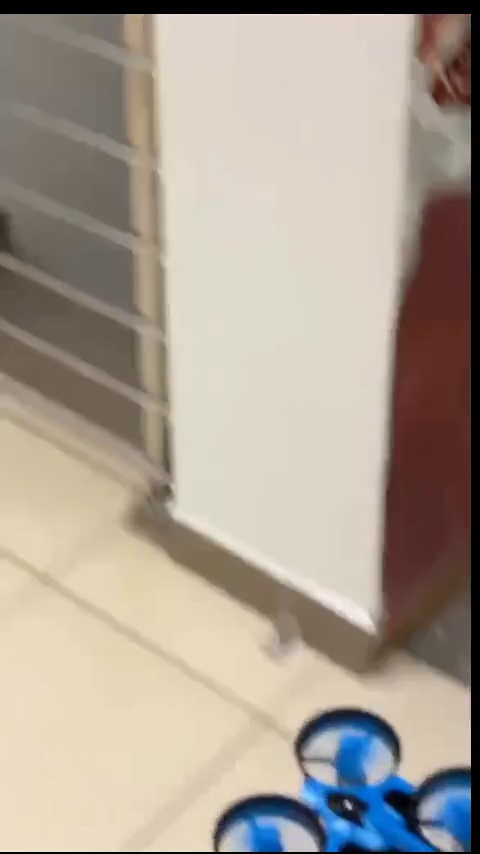drone: (224, 704, 471, 851)
